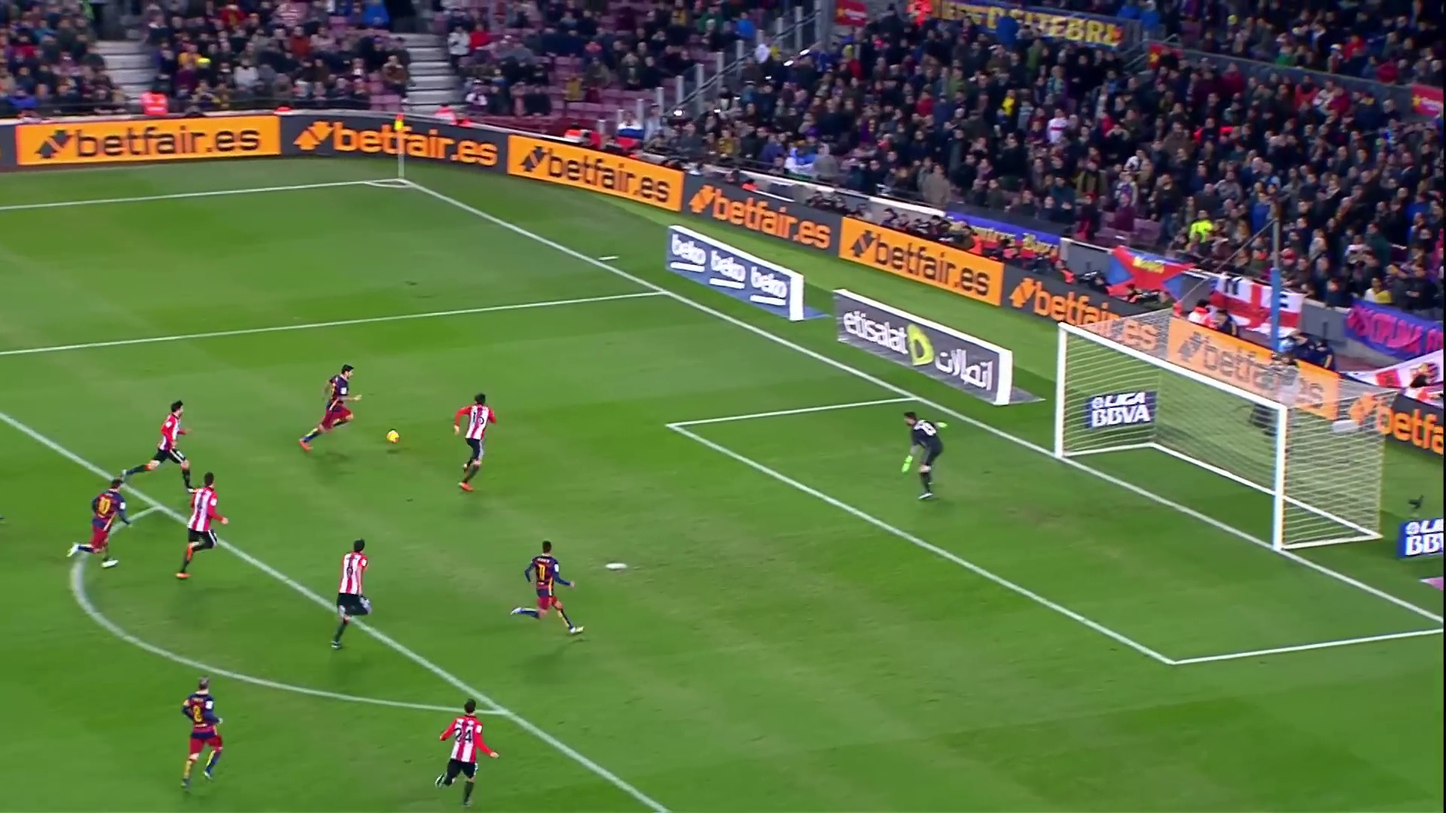ball: (385, 429, 400, 445)
player: (428, 698, 501, 809), (507, 539, 586, 640), (121, 399, 198, 492), (171, 471, 233, 583), (173, 675, 231, 792), (324, 536, 378, 654), (65, 480, 134, 572), (296, 363, 363, 456), (896, 411, 952, 503), (451, 391, 499, 491)
